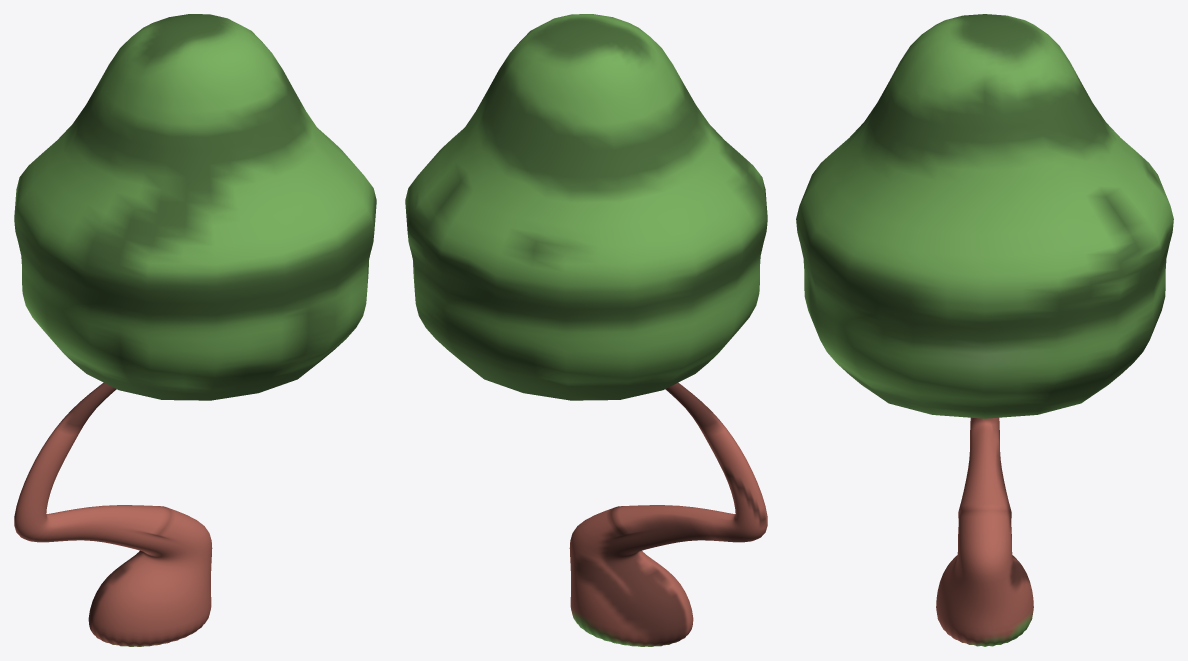
File: green plant 1.fbx
3 renders of one model, left to right at view 1: azimuth 30°, elevation 25°; view 2: azimuth 150°, elevation 25°; view 3: azimuth 270°, elevation 25°, orthographic. The views are drawn at different scales.
Visible parts, largest first — view 1: Circle; view 2: Circle; view 3: Circle.
Part boxes in pixels (bbox=[...]): Circle: bbox=[14, 14, 376, 646]; Circle: bbox=[405, 14, 767, 646]; Circle: bbox=[796, 14, 1173, 646].
Size of the model in its own units: 123 by 209 by 115.
